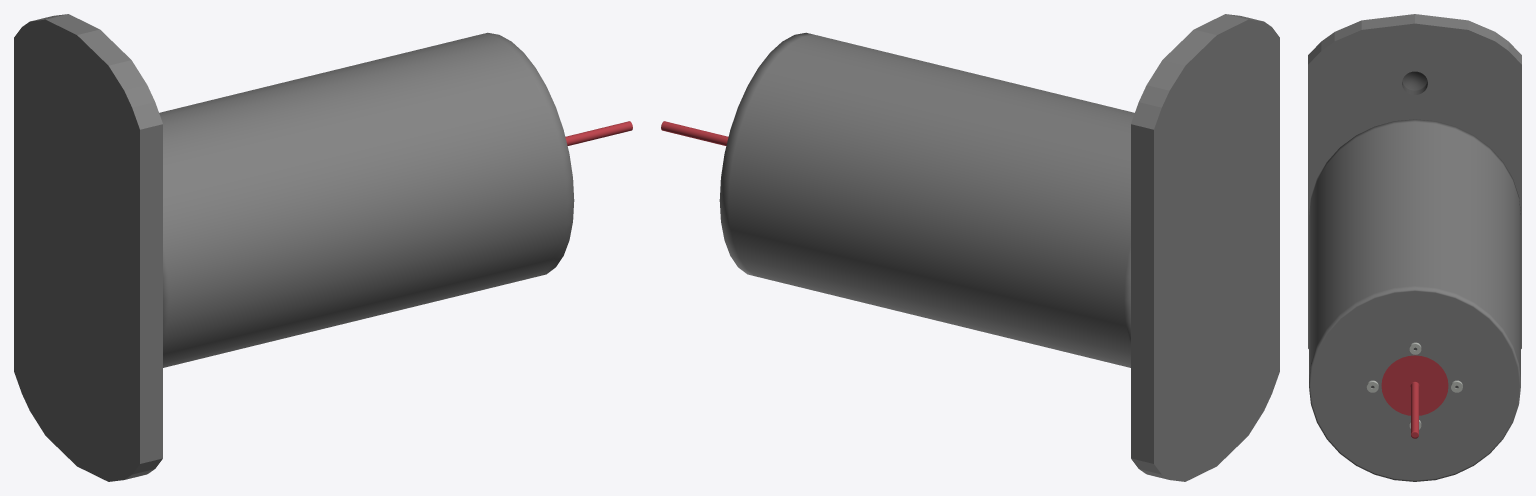
File: robot.fbx
3 renders of one model, left to right at view 1: azimuth 30°, elevation 25°; view 2: azimuth 150°, elevation 25°; view 3: azimuth 270°, elevation 25°, orthographic. The views are drawn at different scales.
Visible parts, largest first — view 1: ghizmo; view 2: ghizmo; view 3: ghizmo.
Part boxes in pixels (x1,y1,x2,y2): ghizmo: (14, 14, 632, 481); ghizmo: (661, 14, 1279, 481); ghizmo: (1308, 14, 1521, 481).
Size of the model in its own units: 0.257 by 0.1914 by 0.1013.
